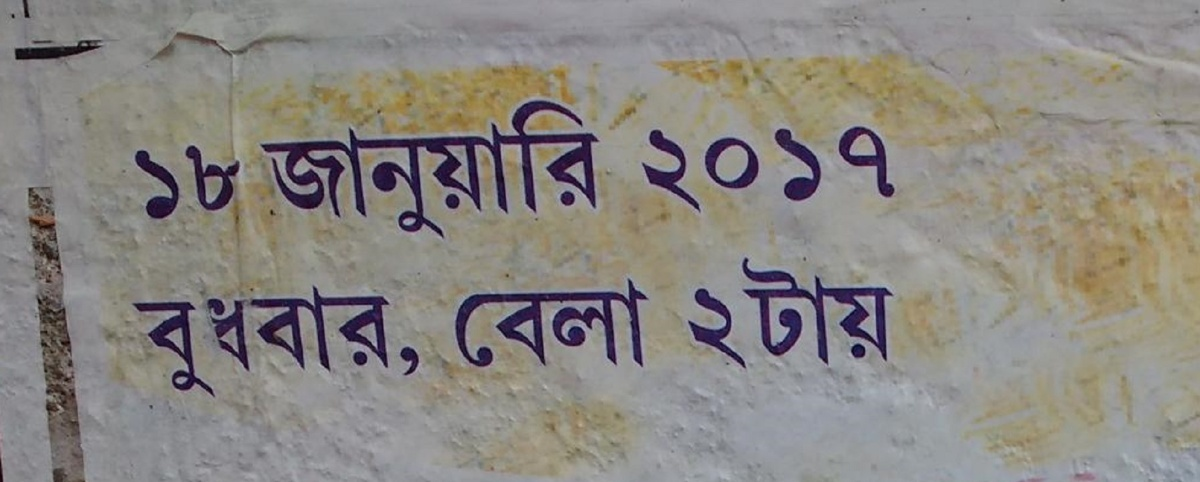text: (257, 93, 272, 246), (273, 93, 288, 246), (289, 93, 304, 246), (305, 93, 320, 246), (321, 93, 336, 246), (337, 93, 352, 246), (353, 93, 368, 246), (369, 93, 384, 246), (385, 93, 400, 246), (401, 93, 416, 246), (417, 93, 432, 246), (433, 93, 448, 246), (449, 93, 464, 246), (465, 93, 480, 246), (481, 93, 496, 246), (497, 93, 512, 246), (513, 93, 528, 246), (529, 93, 544, 246), (545, 93, 560, 246), (561, 93, 576, 246), (577, 93, 592, 246), (593, 93, 608, 246), (129, 112, 144, 243), (145, 112, 160, 243), (161, 112, 176, 243), (177, 112, 192, 243), (193, 112, 208, 243), (209, 112, 224, 243), (225, 112, 240, 243), (689, 251, 704, 382), (705, 251, 720, 382), (721, 251, 736, 382), (737, 251, 752, 382), (753, 251, 768, 382), (769, 251, 784, 382), (785, 251, 800, 382), (801, 251, 816, 382), (817, 251, 832, 382), (833, 251, 848, 382), (849, 251, 864, 382), (865, 251, 880, 382), (881, 251, 896, 382), (897, 251, 912, 382), (129, 280, 144, 410), (145, 280, 160, 410), (161, 280, 176, 410), (177, 280, 192, 410), (193, 280, 208, 410), (209, 280, 224, 410), (225, 280, 240, 410), (241, 280, 256, 410), (257, 280, 272, 410), (273, 280, 288, 410), (289, 280, 304, 410), (305, 280, 320, 410), (321, 280, 336, 410), (337, 280, 352, 410), (353, 280, 368, 410), (369, 280, 384, 410), (385, 280, 400, 410), (401, 280, 416, 410), (241, 112, 254, 243), (641, 111, 656, 223), (657, 111, 672, 223), (673, 111, 688, 223), (689, 111, 704, 223), (705, 111, 720, 223), (721, 111, 736, 223), (737, 111, 752, 223), (753, 111, 768, 223), (769, 111, 784, 223), (785, 111, 800, 223), (801, 111, 816, 223), (817, 111, 832, 223), (833, 111, 848, 223), (849, 111, 864, 223), (865, 111, 880, 223), (881, 111, 896, 223), (449, 273, 464, 379), (465, 273, 480, 379), (481, 273, 496, 379), (497, 273, 512, 379), (513, 273, 528, 379), (529, 273, 544, 379), (545, 273, 560, 379), (561, 273, 576, 379), (577, 273, 592, 379), (593, 273, 608, 379), (609, 273, 624, 379), (625, 273, 640, 379), (641, 273, 656, 379), (677, 251, 688, 382), (897, 111, 905, 223), (122, 112, 128, 243), (417, 280, 423, 410), (254, 93, 256, 246), (638, 111, 640, 223), (913, 251, 914, 382), (657, 273, 658, 379)
